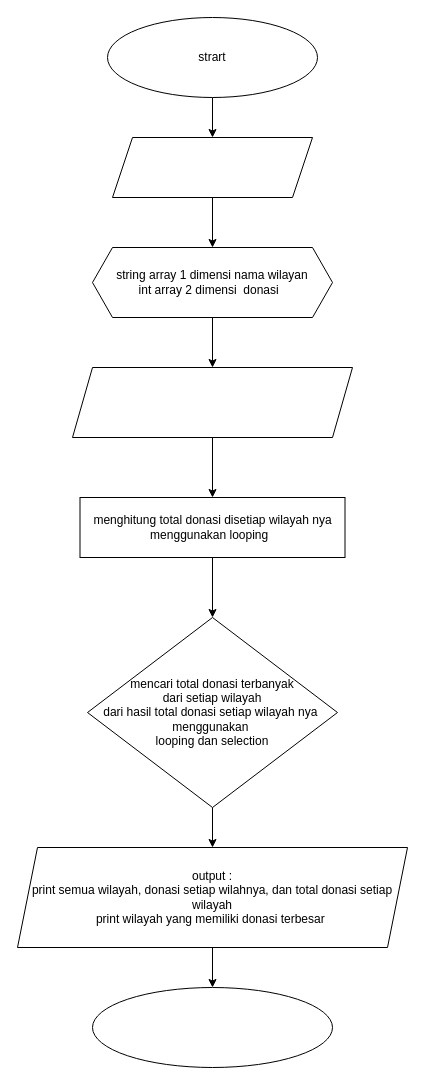
This 425x1085 diagram has some shape labels left out. The centre of each missing label's shape, as x and y in pixels:
"finish" goes at [212,1027].
"input array nama wilaya & array donasi menggunakan looping" goes at [212,402].
"input int wilayah yang akan berdonasi" goes at [212,167].
